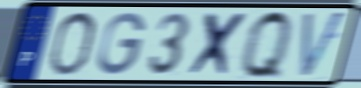3: (146, 10, 194, 78)
G: (96, 10, 148, 77)
O: (46, 10, 99, 78)
Q: (240, 7, 294, 83)
V: (298, 8, 349, 82)
X: (185, 11, 253, 79)
